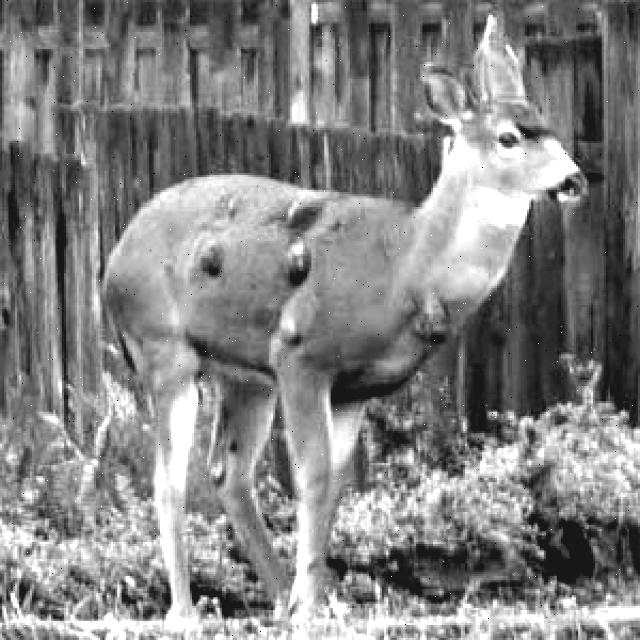deer: (409, 14, 612, 229)
